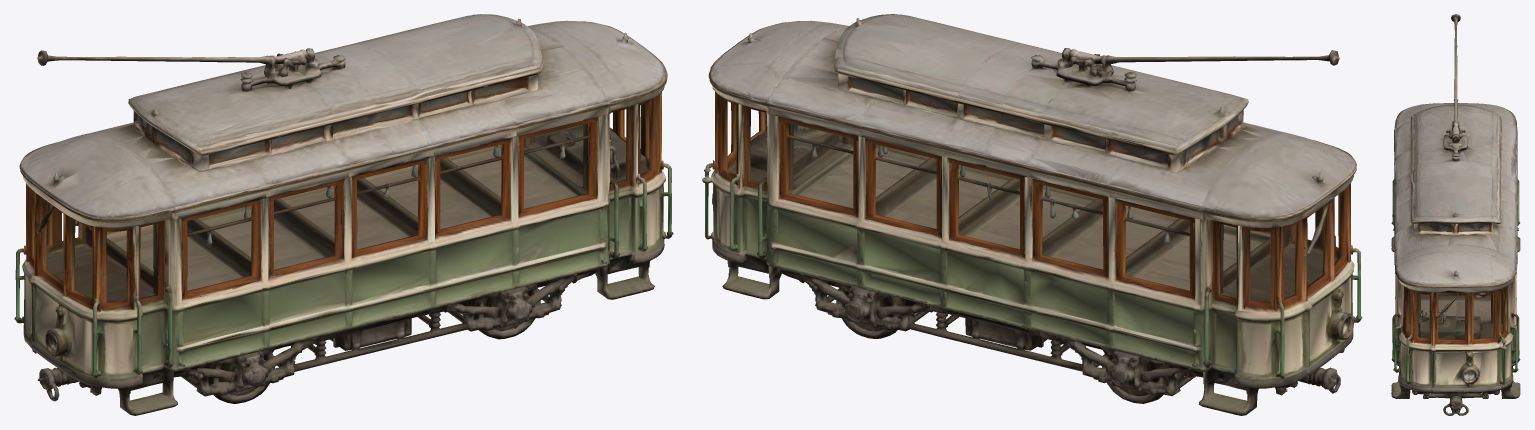
The model's file is pesag_h_m.glb.
3 views of the same model, side by side, from view 1: azimuth 30°, elevation 25°; view 2: azimuth 150°, elevation 25°; view 3: azimuth 270°, elevation 25° (orthographic). The views are drawn at different scales.
Parts seen in each view (by area): view 1: tripo_node_93047469-ecc5-48d0-9800-e3ba9a554870; view 2: tripo_node_93047469-ecc5-48d0-9800-e3ba9a554870; view 3: tripo_node_93047469-ecc5-48d0-9800-e3ba9a554870.
Boxes of the visible parts, x1,y1,x2,y2 form: tripo_node_93047469-ecc5-48d0-9800-e3ba9a554870: (14,14,673,415); tripo_node_93047469-ecc5-48d0-9800-e3ba9a554870: (702,14,1362,415); tripo_node_93047469-ecc5-48d0-9800-e3ba9a554870: (1391,14,1520,415).
Size of the model in its own units: 9.2 by 5.31 by 2.68.
Materials: 1 (1 with a texture image).
